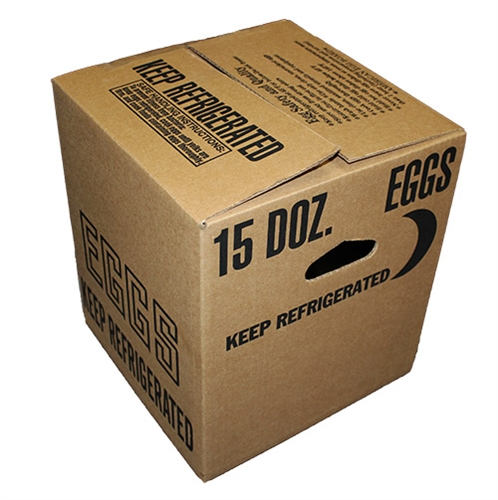Rec_Paper: (49, 15, 457, 482)
